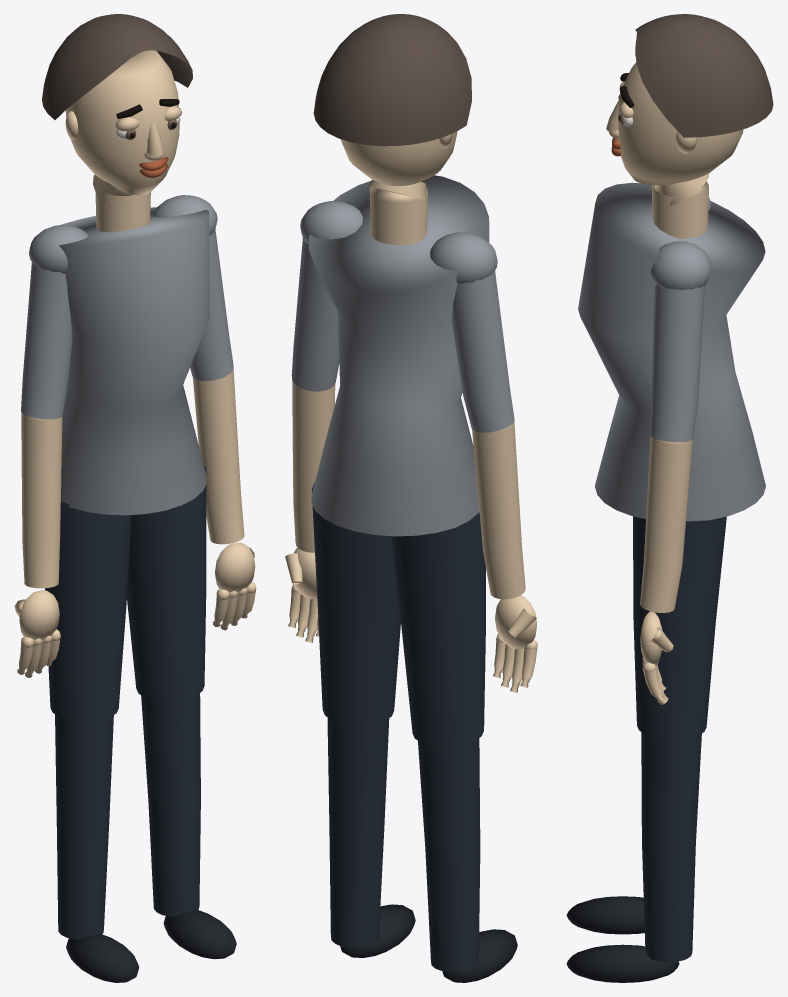
The picture shows the model from 3 angles, left to right: view 1: azimuth 30°, elevation 25°; view 2: azimuth 150°, elevation 25°; view 3: azimuth 270°, elevation 25°; orthographic projection. The views are drawn at different scales.
Parts seen in each view (by area): view 1: tarek_fig, tarek_head; view 2: tarek_fig, tarek_head; view 3: tarek_fig, tarek_head.
Boxes of the visible parts, x1,y1,x2,y2 form: tarek_fig: (14, 192, 256, 982); tarek_head: (42, 14, 192, 205); tarek_fig: (285, 175, 537, 982); tarek_head: (313, 14, 471, 201); tarek_fig: (566, 181, 765, 982); tarek_head: (606, 14, 773, 206).
Size of the model in its own units: 0.4765 by 1.75 by 0.3512.
